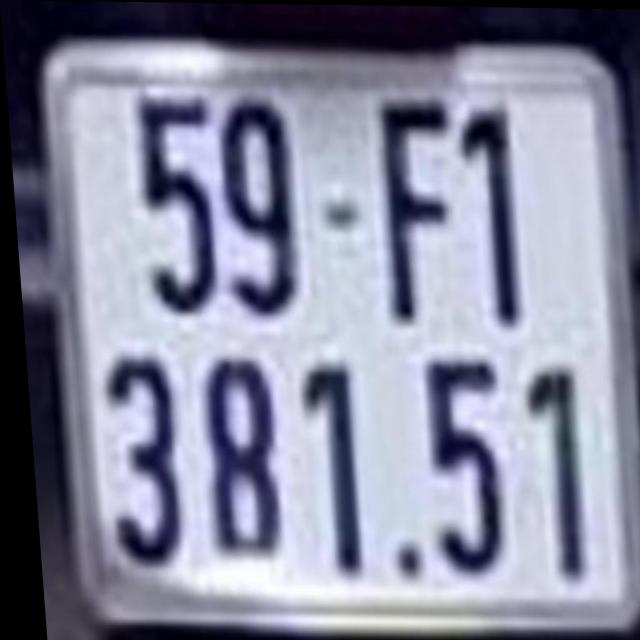1: (460, 107, 525, 326), (301, 366, 365, 579), (523, 362, 582, 573)
3: (95, 361, 178, 570)
5: (418, 363, 508, 570), (130, 95, 216, 307)
8: (201, 360, 283, 575)
9: (217, 97, 299, 311)
F: (368, 100, 459, 320)
